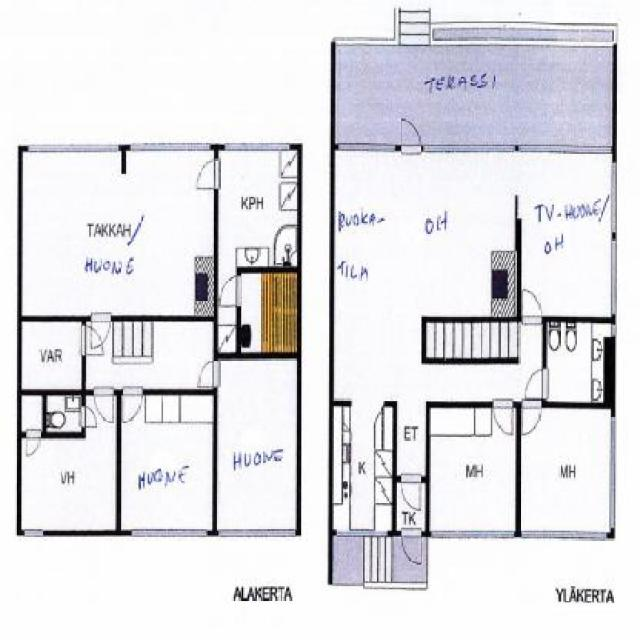door: (96, 383, 116, 435), (194, 158, 221, 194), (524, 366, 550, 403), (77, 326, 105, 360), (397, 476, 423, 512), (492, 398, 514, 440), (402, 120, 423, 162), (89, 309, 111, 349), (400, 528, 425, 563), (523, 289, 542, 331), (125, 389, 146, 426), (522, 400, 542, 438), (217, 278, 241, 308), (198, 365, 224, 389), (82, 402, 98, 428), (28, 434, 40, 458)
window: (29, 144, 120, 156), (425, 146, 517, 157), (432, 530, 516, 542), (131, 143, 209, 154), (129, 526, 206, 537), (522, 531, 606, 540), (215, 529, 297, 537), (226, 144, 289, 154), (517, 148, 614, 154), (609, 418, 614, 530), (611, 163, 618, 237), (334, 532, 394, 540), (610, 238, 616, 314), (338, 145, 396, 152), (23, 525, 45, 540), (611, 326, 617, 334)
zone: (335, 154, 540, 400), (21, 154, 214, 314), (337, 43, 614, 151), (217, 151, 295, 355), (517, 154, 612, 318), (217, 359, 295, 526), (23, 397, 117, 531), (121, 394, 212, 528), (518, 408, 611, 529), (428, 404, 515, 530), (84, 317, 216, 385), (336, 406, 392, 531), (546, 323, 608, 397), (243, 271, 297, 354), (25, 318, 83, 392), (336, 535, 424, 583), (399, 401, 426, 474), (44, 398, 82, 431), (398, 485, 424, 526), (20, 397, 43, 431)
